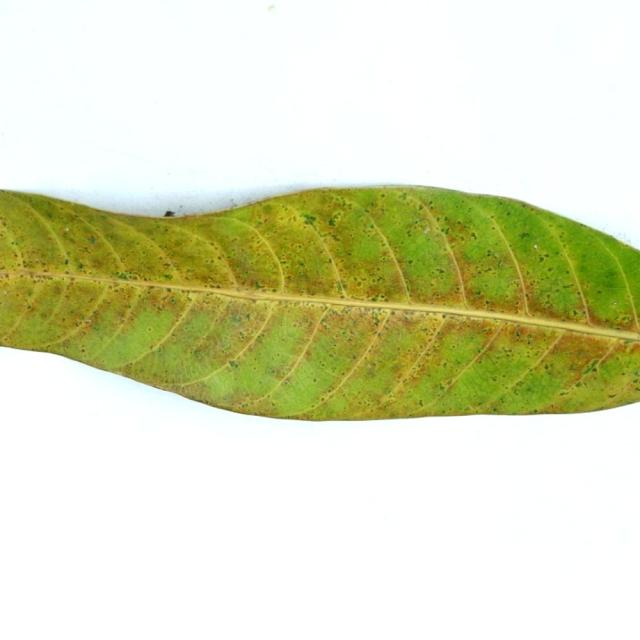Mango: (0, 188, 639, 420)
Powdery_Mildew: (60, 295, 113, 349), (218, 301, 261, 333), (604, 309, 636, 332), (481, 298, 516, 315), (252, 282, 289, 297), (595, 264, 621, 285), (5, 235, 23, 255), (368, 308, 390, 324), (328, 210, 344, 226), (583, 360, 600, 375), (0, 271, 14, 286), (112, 270, 132, 280), (555, 312, 573, 322), (229, 313, 243, 324), (520, 228, 530, 242), (327, 232, 340, 242), (620, 314, 634, 323), (372, 293, 386, 301), (321, 303, 332, 313), (303, 217, 315, 226), (569, 309, 581, 318), (327, 217, 337, 227), (252, 280, 263, 289), (519, 232, 531, 240), (365, 223, 375, 232), (438, 381, 447, 390), (162, 272, 172, 280), (240, 400, 250, 408), (558, 389, 569, 396), (441, 227, 450, 235), (469, 232, 478, 240), (515, 329, 523, 338), (398, 193, 408, 200), (578, 221, 588, 228), (210, 283, 221, 289), (88, 236, 96, 244), (230, 360, 238, 368), (320, 393, 328, 401), (473, 289, 482, 296), (476, 348, 483, 356), (1, 217, 7, 226), (636, 369, 640, 382), (538, 255, 545, 262), (25, 303, 32, 310), (482, 300, 489, 307), (544, 363, 551, 370), (321, 321, 328, 328), (437, 268, 445, 274), (576, 381, 584, 387), (156, 345, 162, 353), (608, 393, 617, 398), (455, 285, 462, 291), (406, 259, 413, 265), (64, 269, 70, 275), (379, 194, 386, 199), (418, 399, 423, 406), (531, 408, 538, 413), (64, 259, 69, 265), (546, 267, 552, 272), (75, 321, 81, 326), (351, 354, 356, 360), (81, 347, 86, 353), (328, 258, 333, 263), (275, 352, 280, 357), (597, 290, 602, 294), (313, 378, 317, 382), (148, 327, 152, 331)
